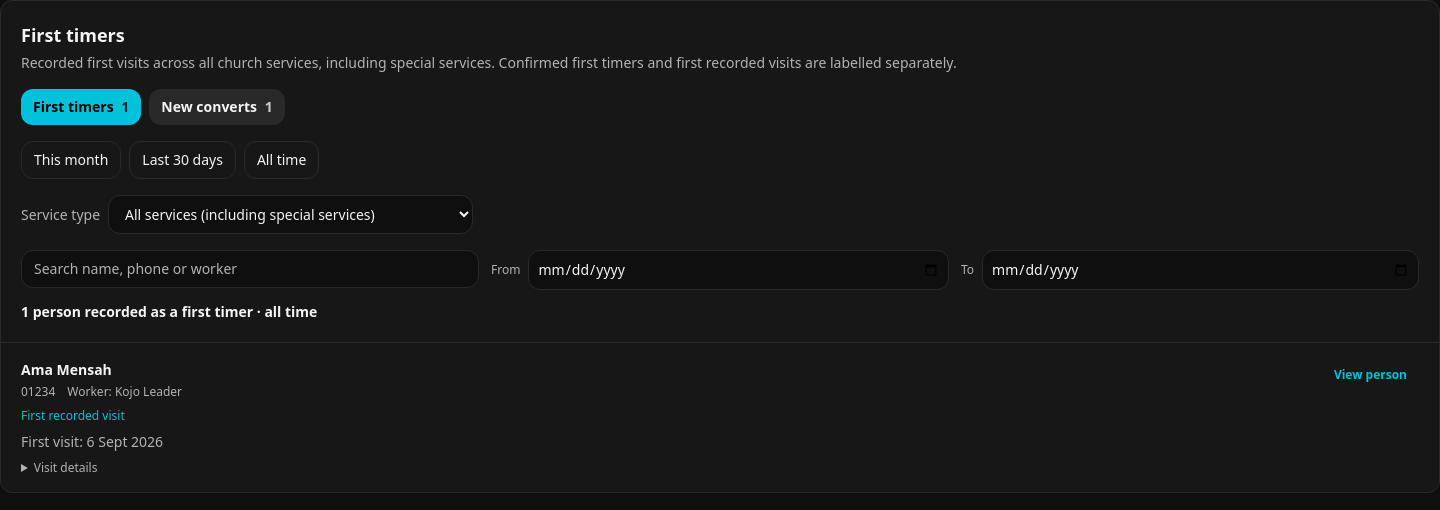
it: provides this-month, last-30-days and all-time shortcuts
Click the button "This month".
click(71, 160)  # box [21,141,121,179]
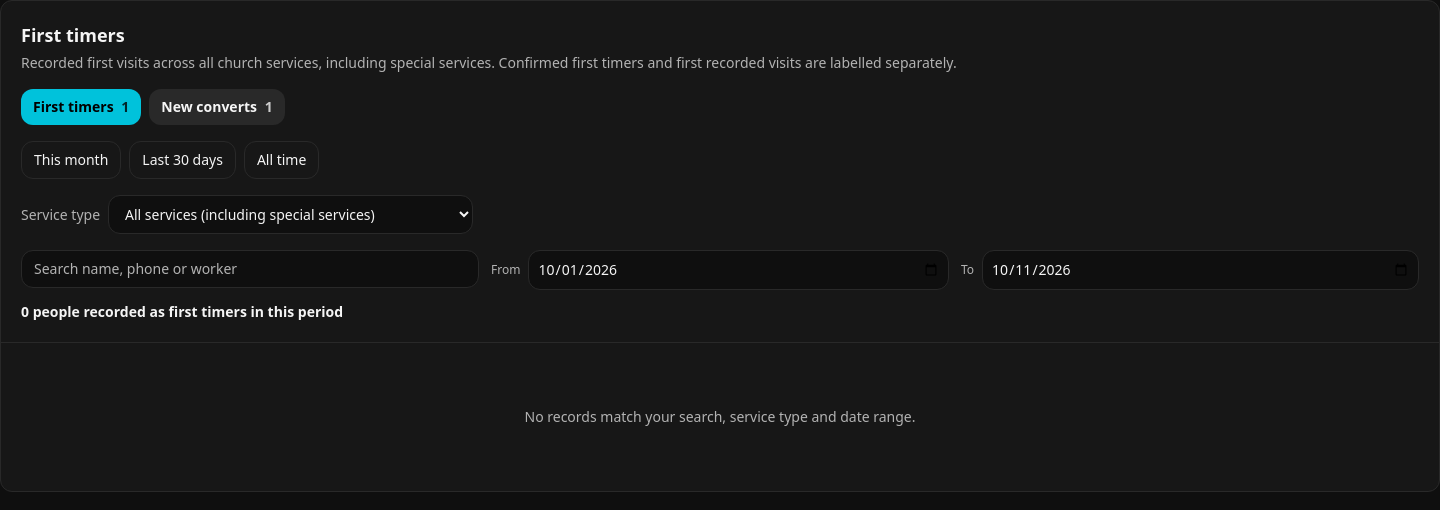
Expected: the date field named "From date" holds "2026-10-01", [528,250,949,290]
Expected: the date field named "To date" holds "2026-10-11", [982,250,1419,290]
Click the button "Last 30 days".
click(183, 160)  # box [129,141,236,179]
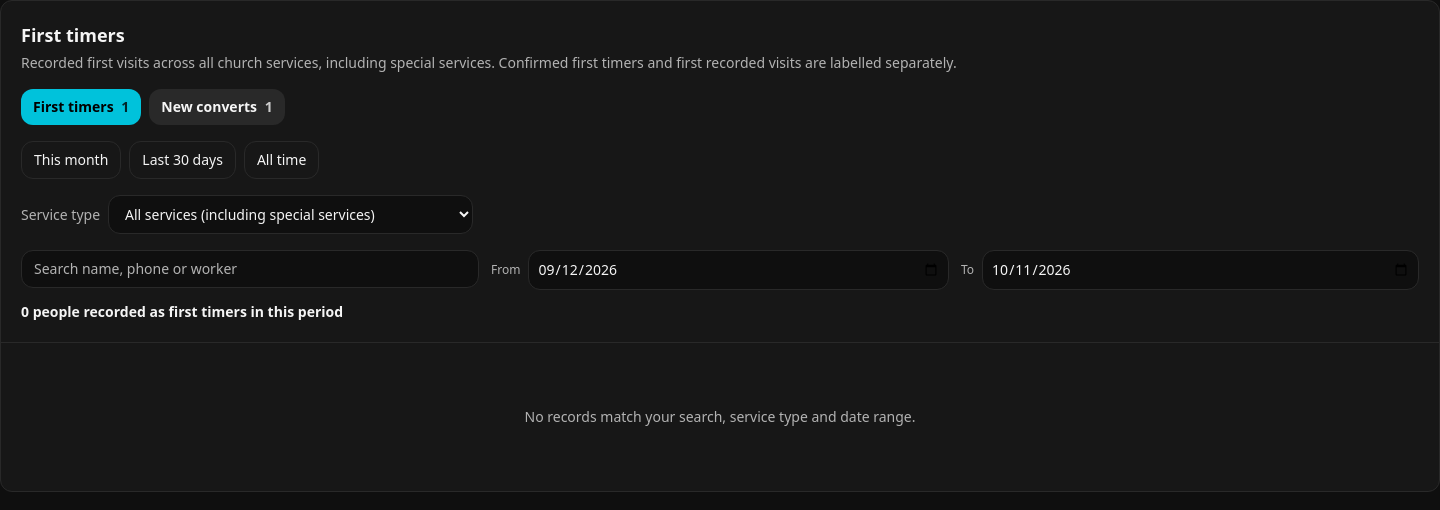
Expected: the date field named "From date" holds "2026-09-12", [528,250,949,290]
Click the button "All time".
click(282, 160)  # box [244,141,319,179]
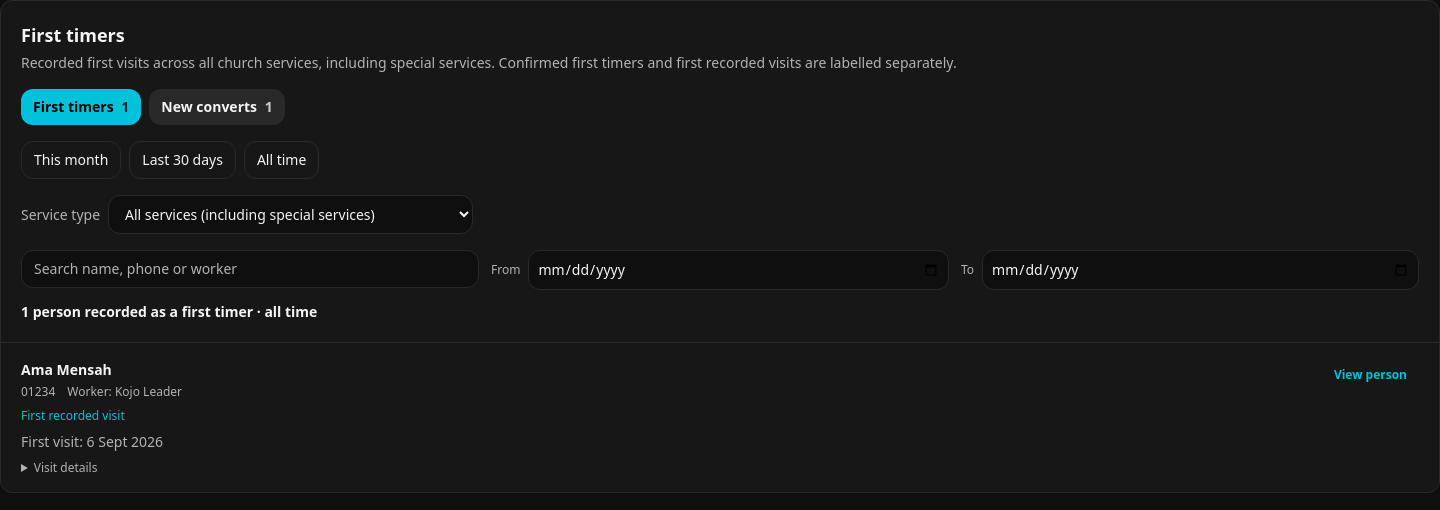
Expected: the date field named "From date" is empty, [528,250,949,290]
Expected: the button "Ama Mensah" is shown, [21,360,112,380]
